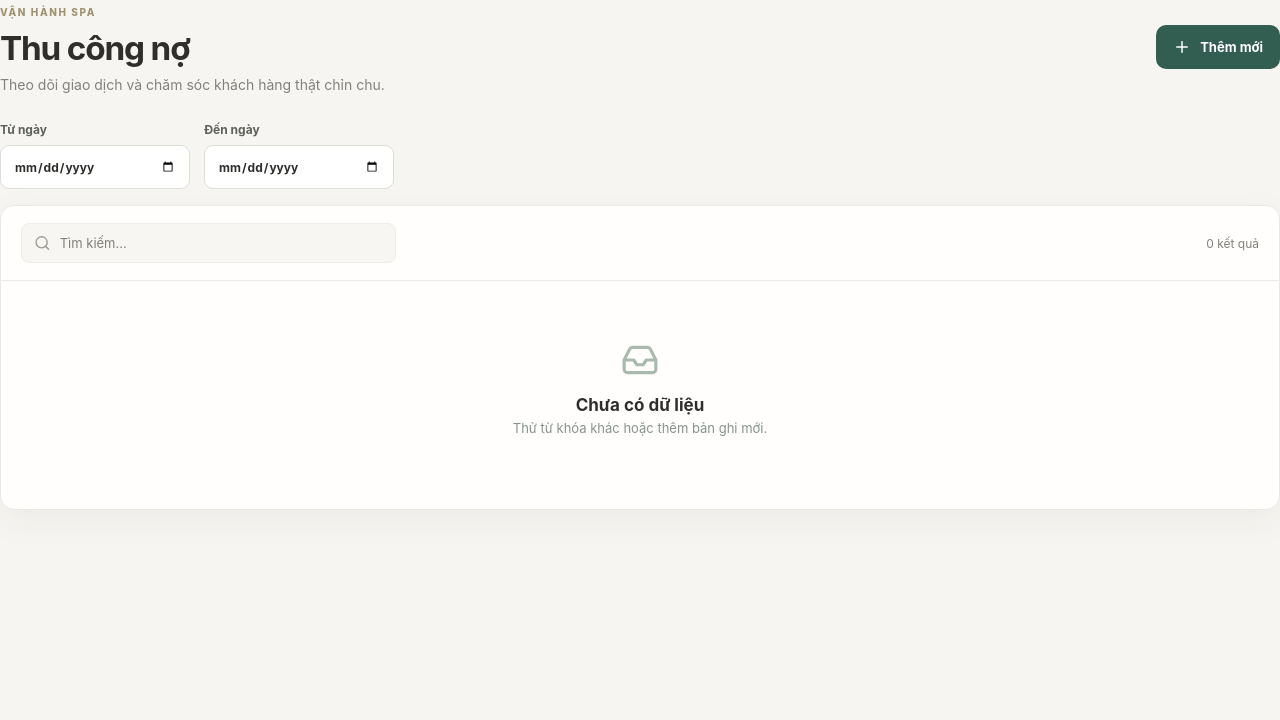
Test: retains the form on backend rejection and refreshes the customer balance
Click the button "Thêm mới": (1218, 47) [1156,25,1279,69]
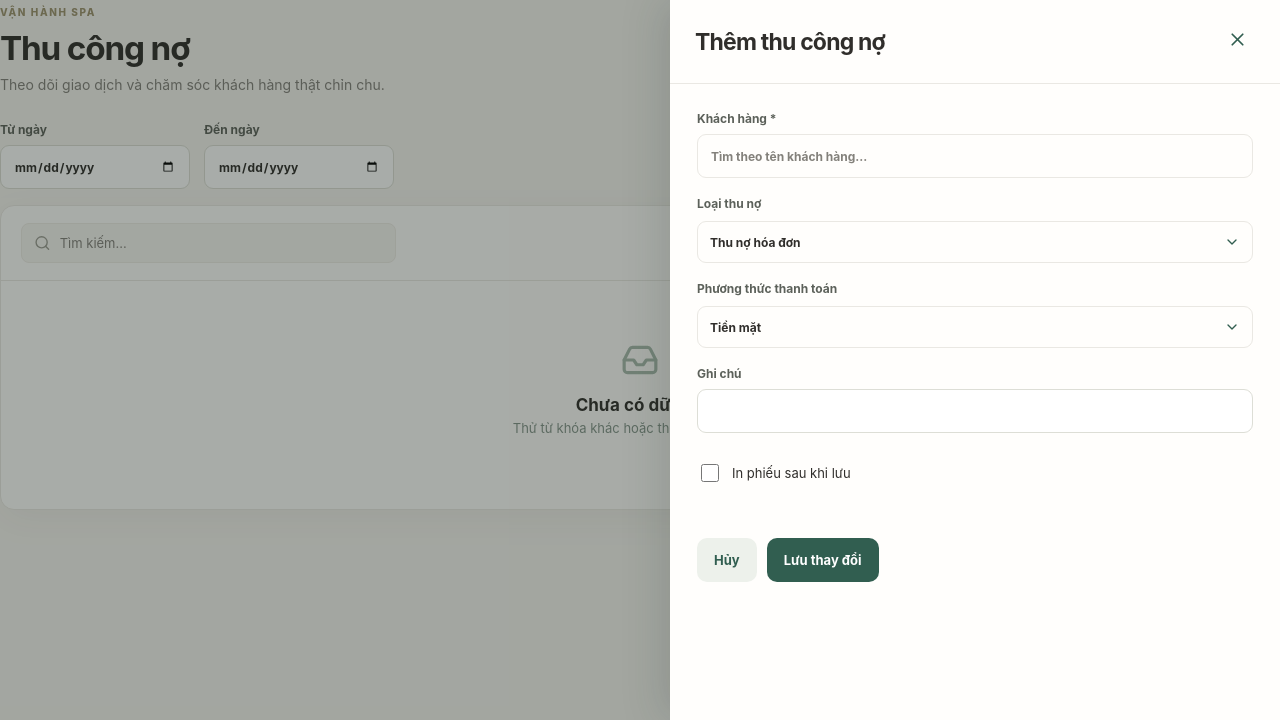
Click the dropdown named "Tìm khách hàng": (975, 156) [697,134,1253,178]
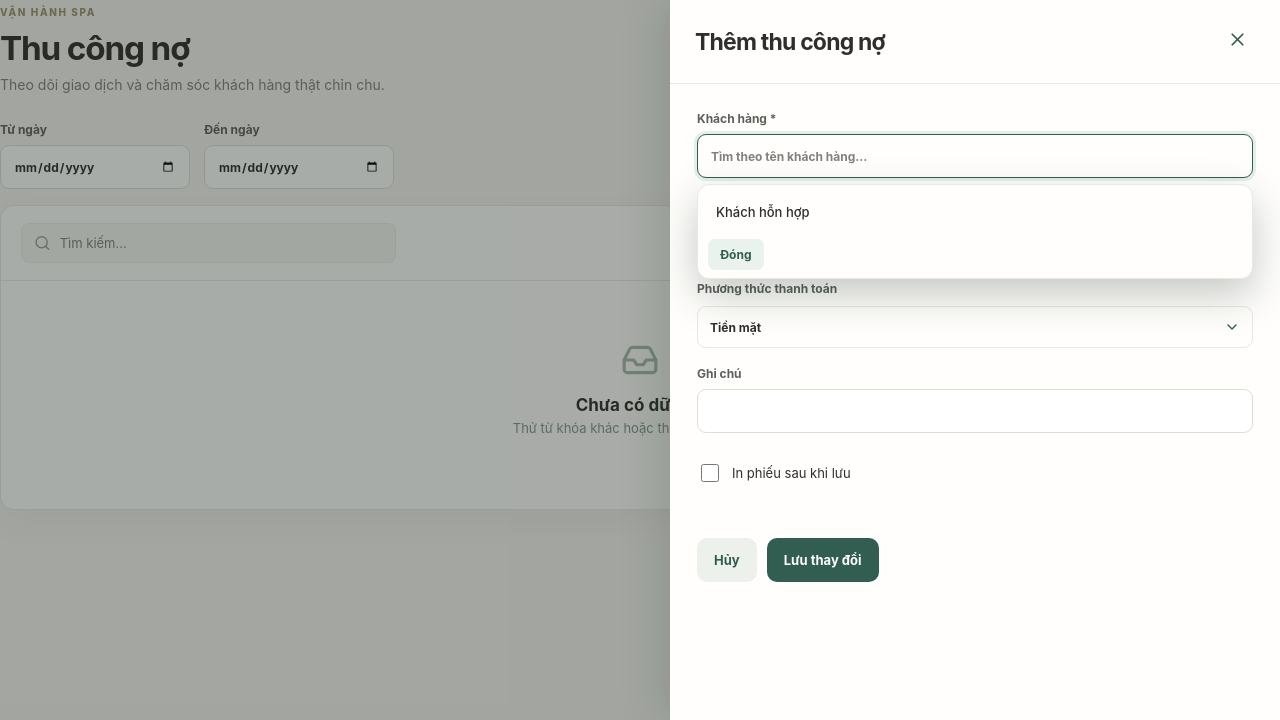
Click the option "Khách hỗn hợp": (763, 212) [704,191,1246,233]
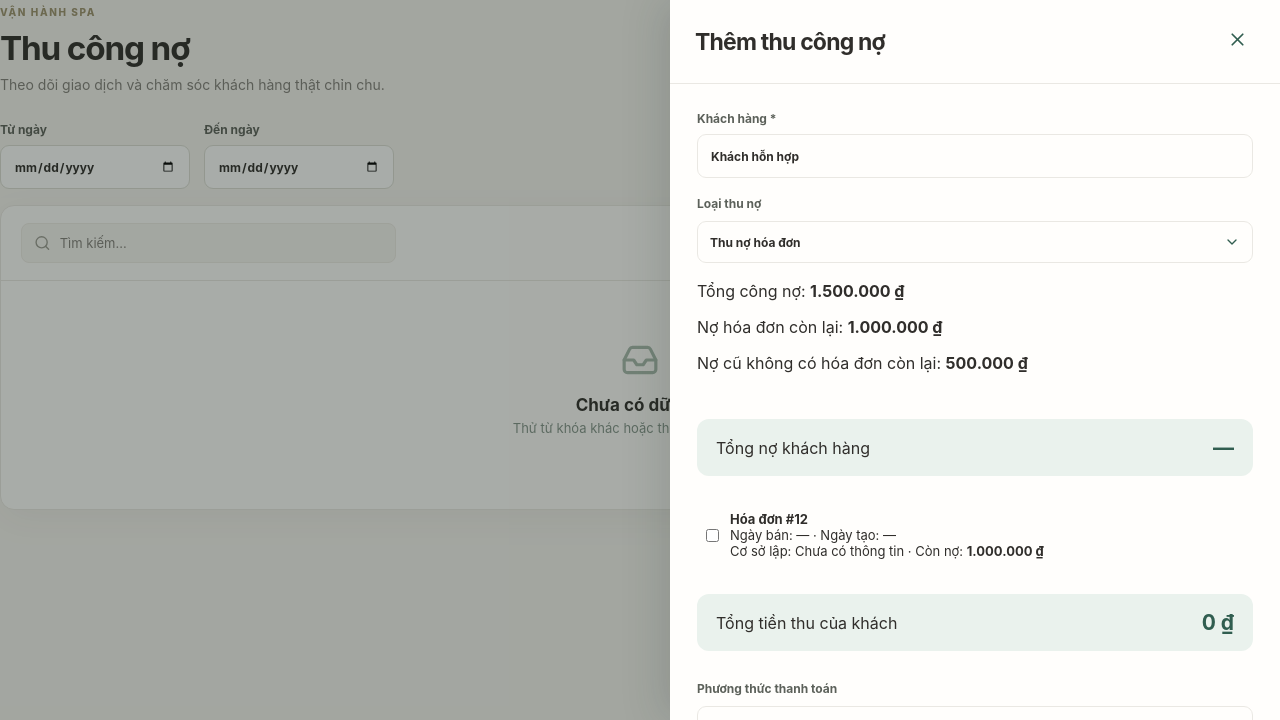
Result: the element named "Công nợ khách hàng" is shown at [697,281,1028,373]
Select "Thu nợ cũ không có hóa đơn" in the dropdown labelled "Loại thu nợ": (975, 230) [697,196,1253,263]
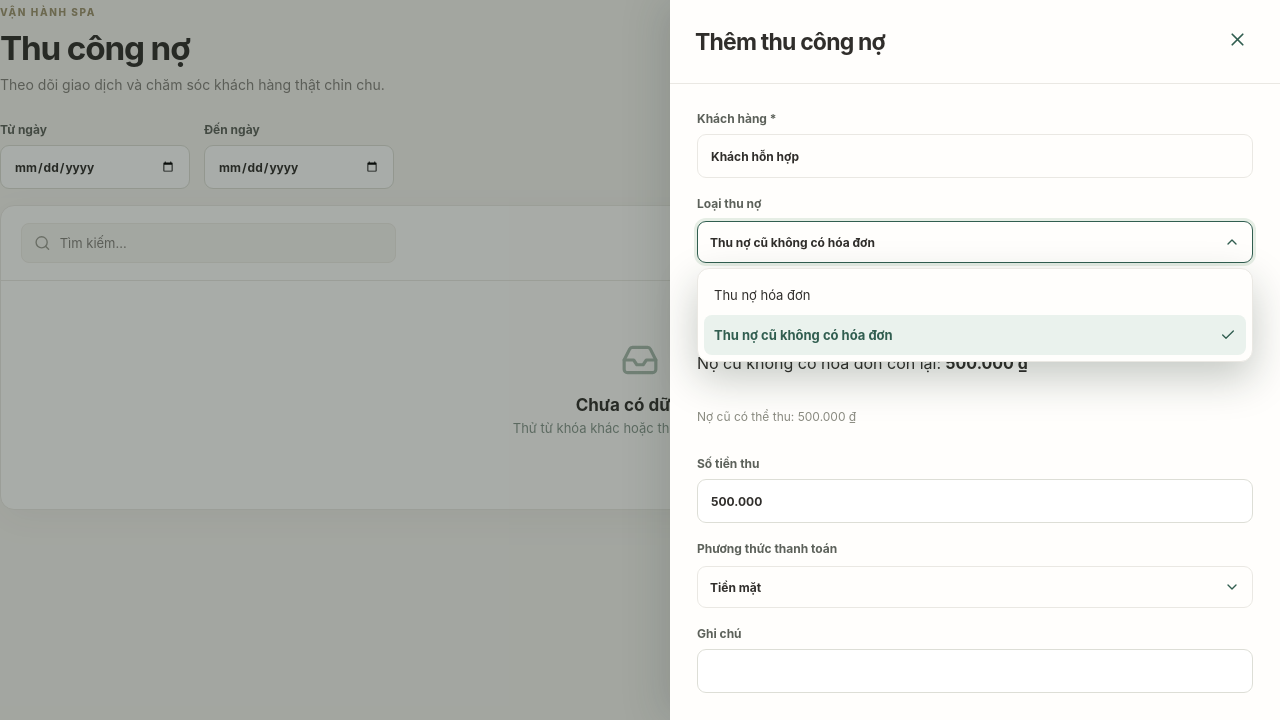
Replace the text in the field labelled "Số tiền thu" with "200000": (975, 501) [697,479,1253,523]
(page scrolled)
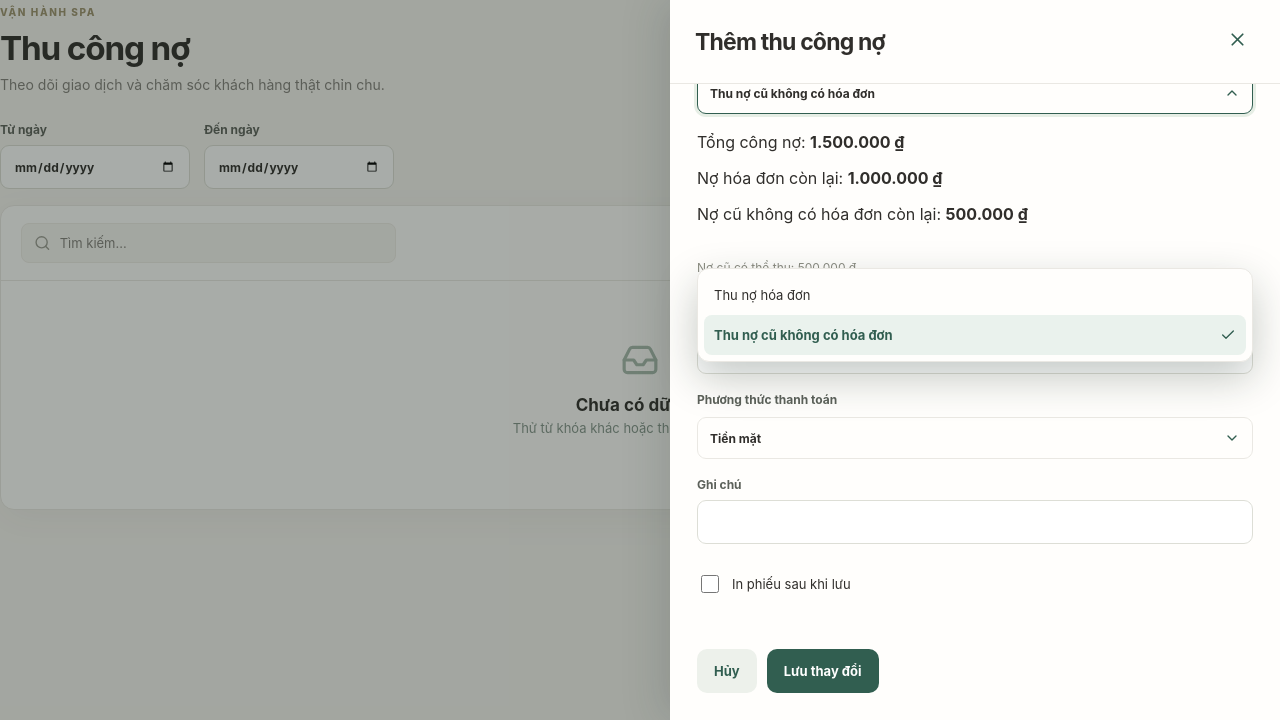
Click the button "Lưu thay đổi": (823, 671) [767,649,878,693]
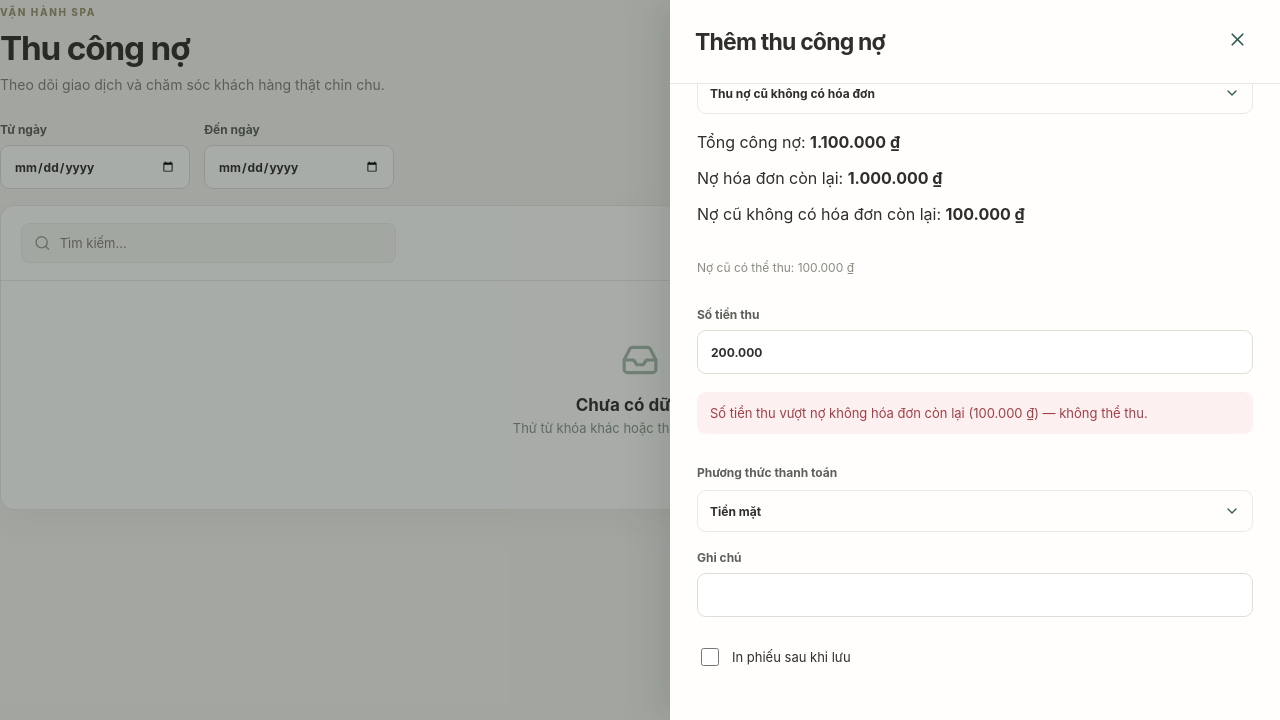
Result: the field labelled "Số tiền thu" holds "200.000" at [697,330,1253,374]
Result: the text "Nợ cũ có thể thu: 100.000 ₫" is shown at [697,260,854,275]
